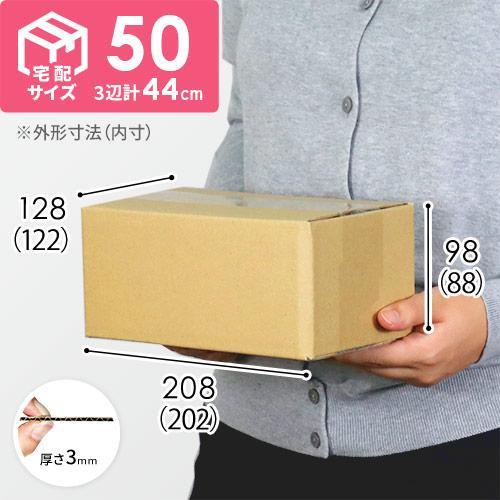box: (72, 167, 426, 372)
